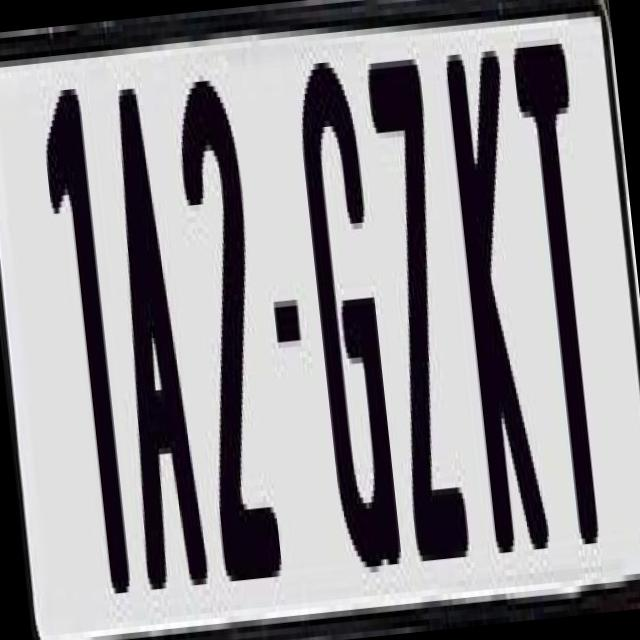1: (37, 87, 142, 625)
2: (170, 77, 292, 611)
A: (92, 68, 208, 584)
G: (292, 41, 414, 592)
K: (440, 38, 557, 577)
T: (506, 31, 623, 570)
Z: (362, 46, 476, 550)
